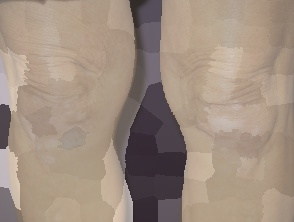vitiligo: (158, 41, 294, 200), (0, 51, 116, 188)
